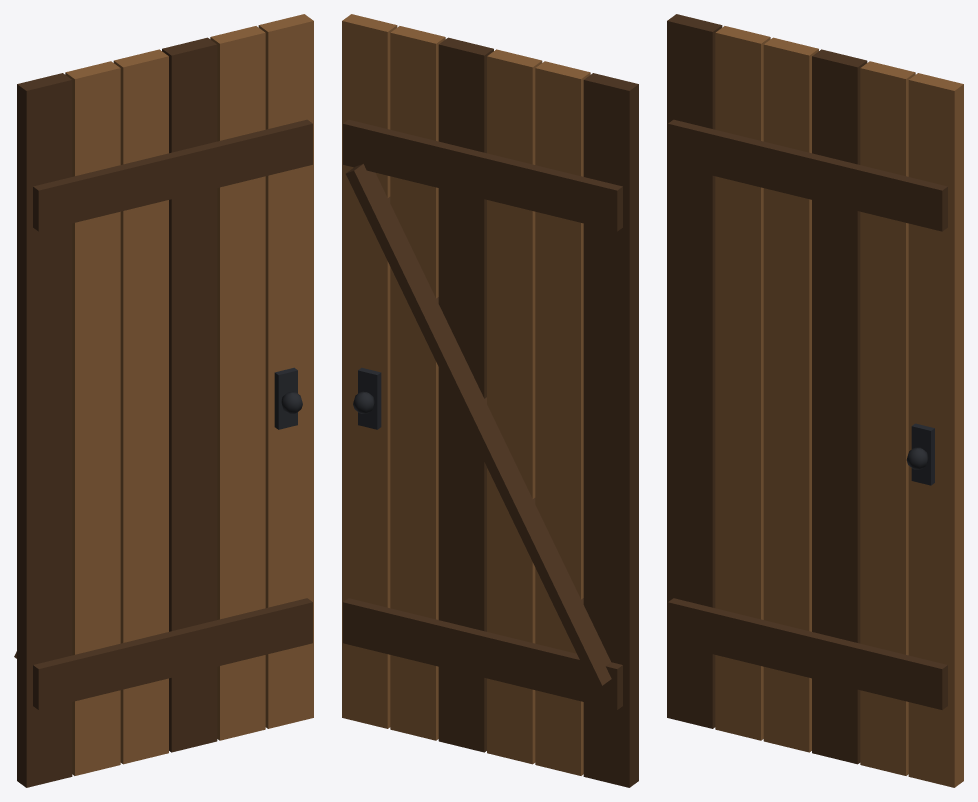
Rendered from SM_Door_wood_90x205.fbx.
The picture shows the model from 3 angles, left to right: view 1: azimuth 30°, elevation 25°; view 2: azimuth 150°, elevation 25°; view 3: azimuth 330°, elevation 25°; orthographic projection.
Parts seen in each view (by area): view 1: SM_Door_wood_90x205; view 2: SM_Door_wood_90x205; view 3: SM_Door_wood_90x205.
Part boxes in pixels (left/top/right/bottom): SM_Door_wood_90x205: left=14, top=14, right=313, bottom=787; SM_Door_wood_90x205: left=342, top=14, right=638, bottom=787; SM_Door_wood_90x205: left=667, top=14, right=963, bottom=787.
Size of the model in its own units: 0.88 by 2.04 by 0.2.
